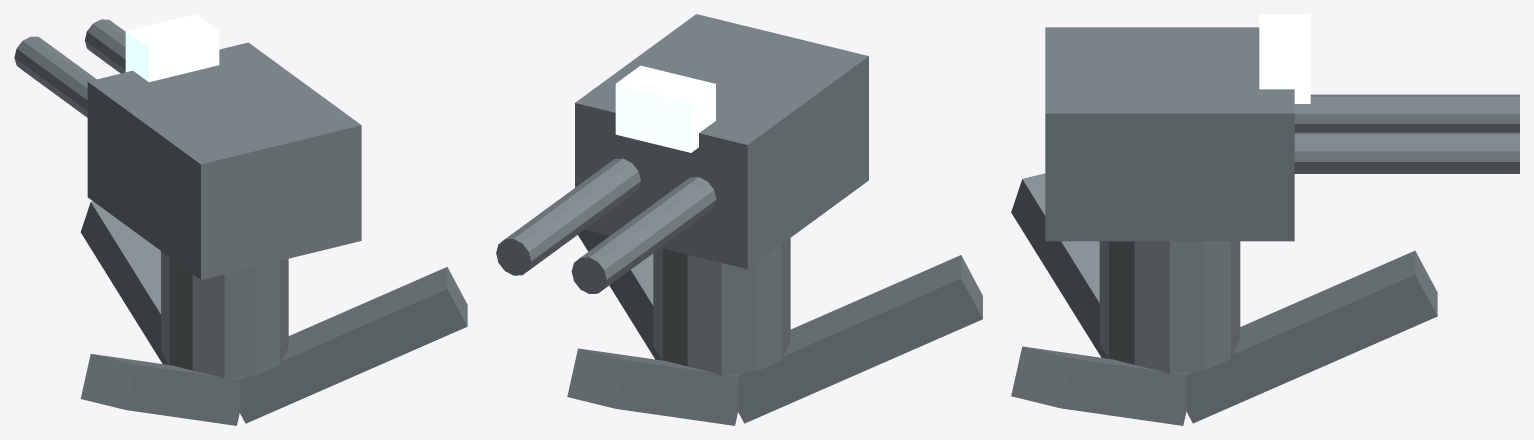
Rendered from turret.glb.
The picture shows the model from 3 angles, left to right: view 1: azimuth 30°, elevation 25°; view 2: azimuth 150°, elevation 25°; view 3: azimuth 270°, elevation 25°; orthographic projection. The views are drawn at different scales.
Parts seen in each view (by area): view 1: TurretHead, Leg_1, Pedestal, Leg_2, Leg_0, Optic, BarrelL, BarrelR; view 2: TurretHead, Leg_2, Pedestal, Leg_0, Optic, BarrelR, BarrelL, Leg_1; view 3: TurretHead, Pedestal, Leg_0, BarrelR, Leg_1, BarrelL, Leg_2, Optic.
Boxes of the visible parts, x1=… form: TurretHead: x1=87, y1=42, x2=361, y2=279; Leg_1: x1=234, y1=267, x2=467, y2=423; Pedestal: x1=161, y1=251, x2=288, y2=378; Leg_2: x1=80, y1=354, x2=239, y2=425; Leg_0: x1=80, y1=201, x2=168, y2=364; Optic: x1=125, y1=14, x2=219, y2=82; BarrelL: x1=14, y1=36, x2=96, y2=117; BarrelR: x1=84, y1=19, x2=125, y2=73; TurretHead: x1=575, y1=14, x2=868, y2=269; Leg_2: x1=732, y1=255, x2=982, y2=423; Pedestal: x1=653, y1=238, x2=790, y2=375; Leg_0: x1=567, y1=348, x2=738, y2=425; Optic: x1=615, y1=65, x2=715, y2=152; BarrelR: x1=496, y1=158, x2=640, y2=275; BarrelL: x1=571, y1=177, x2=716, y2=293; Leg_1: x1=578, y1=229, x2=661, y2=360; TurretHead: x1=1045, y1=27, x2=1294, y2=241; Pedestal: x1=1099, y1=241, x2=1240, y2=373; Leg_0: x1=1180, y1=251, x2=1437, y2=423; BarrelR: x1=1294, y1=132, x2=1519, y2=173; Leg_1: x1=1011, y1=346, x2=1186, y2=425; BarrelL: x1=1294, y1=94, x2=1519, y2=132; Leg_2: x1=1011, y1=173, x2=1108, y2=358; Optic: x1=1259, y1=14, x2=1310, y2=103.
Bounding box in the file's own units: 1.54 × 1.31 × 1.59.
